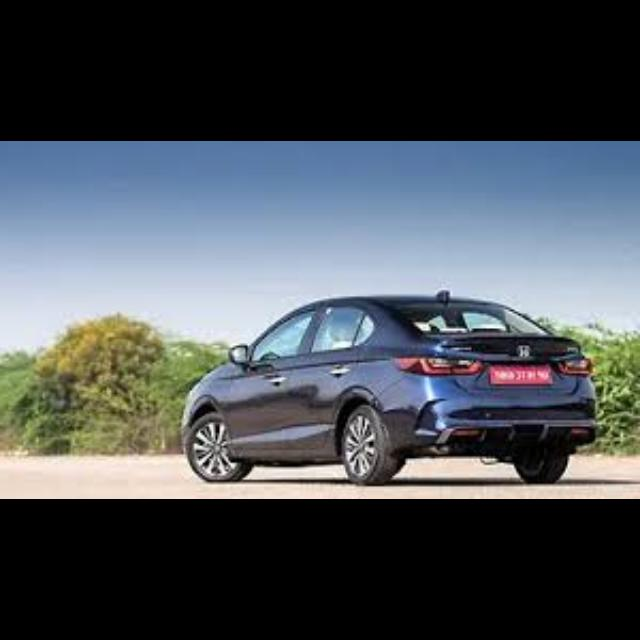vehicles: (177, 282, 606, 488)
